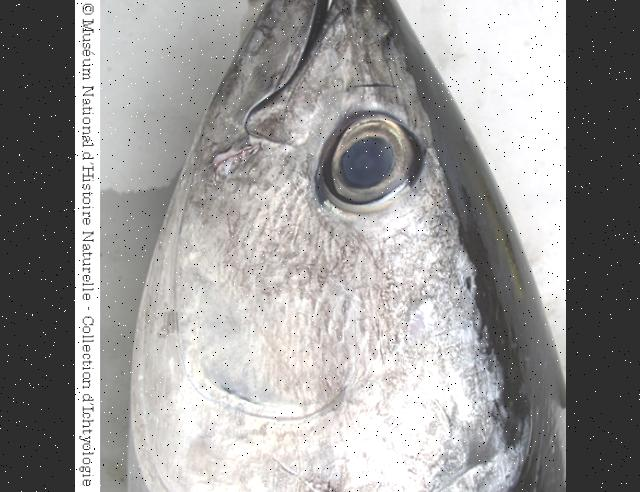Mulut: (225, 0, 409, 104)
